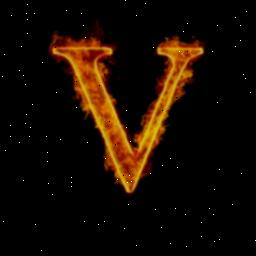v: (44, 20, 218, 200)
